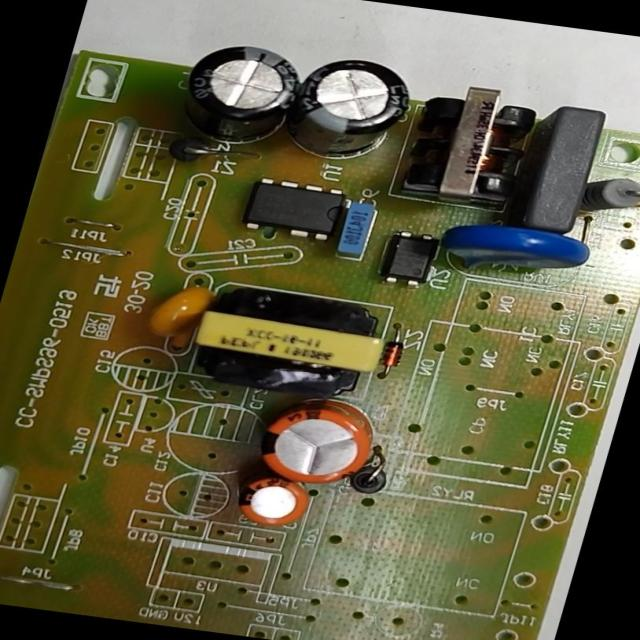Cap1: (230, 388, 396, 498)
Cap2: (218, 465, 330, 541)
Cap3: (261, 40, 431, 172)
Cap4: (163, 35, 320, 154)
MOSFET: (230, 174, 356, 250)
Mov: (426, 210, 608, 291)
Resistor: (566, 166, 640, 224)
Transformer: (169, 276, 406, 408), (386, 70, 564, 211)
